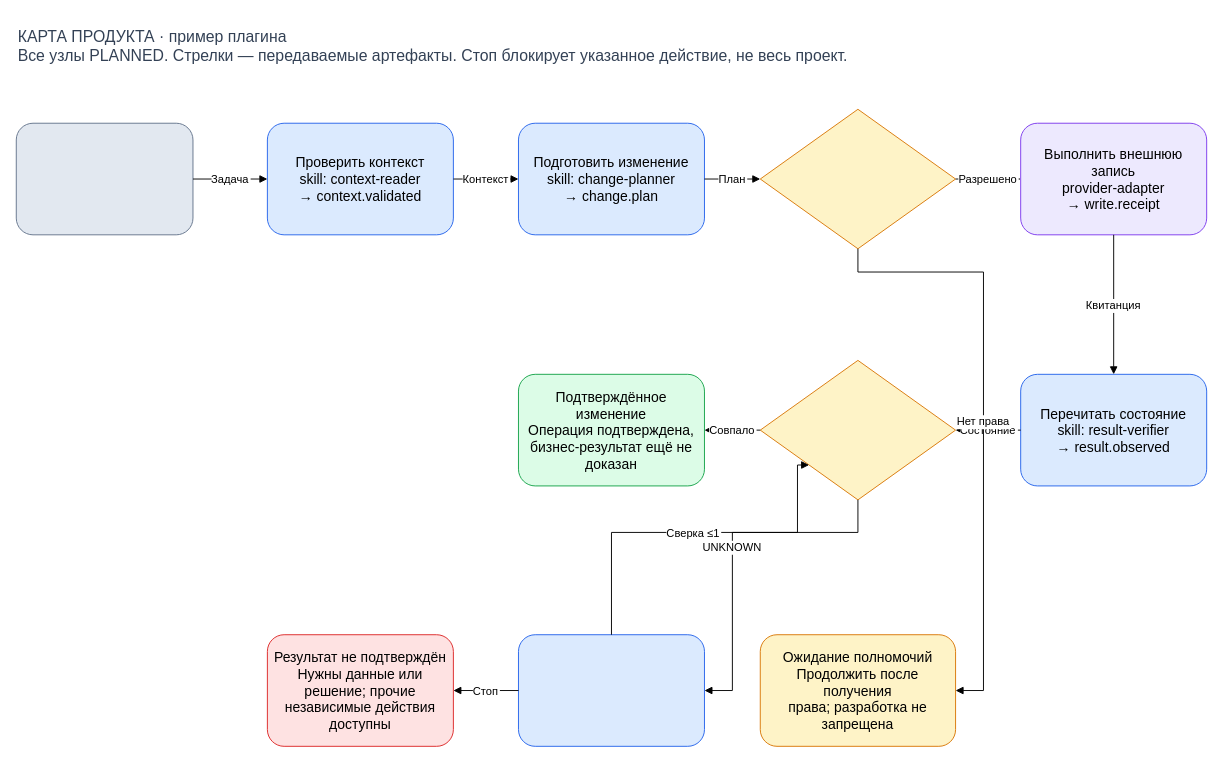
Some shapes in this 1223 by 763 pixel diagram are drawn without their labels. The centre of each missing label's shape, as x and y in pixels:
Есть действующее право? OWNER Блокирует: N05: the point at 857,178
Задача владельца → request.context: the point at 104,178
Результат совпал с планом? Блокирует: N08: the point at 857,429
Сверить ту же операцию skill: operation-reconciler Без повторной записи: the point at 611,690
